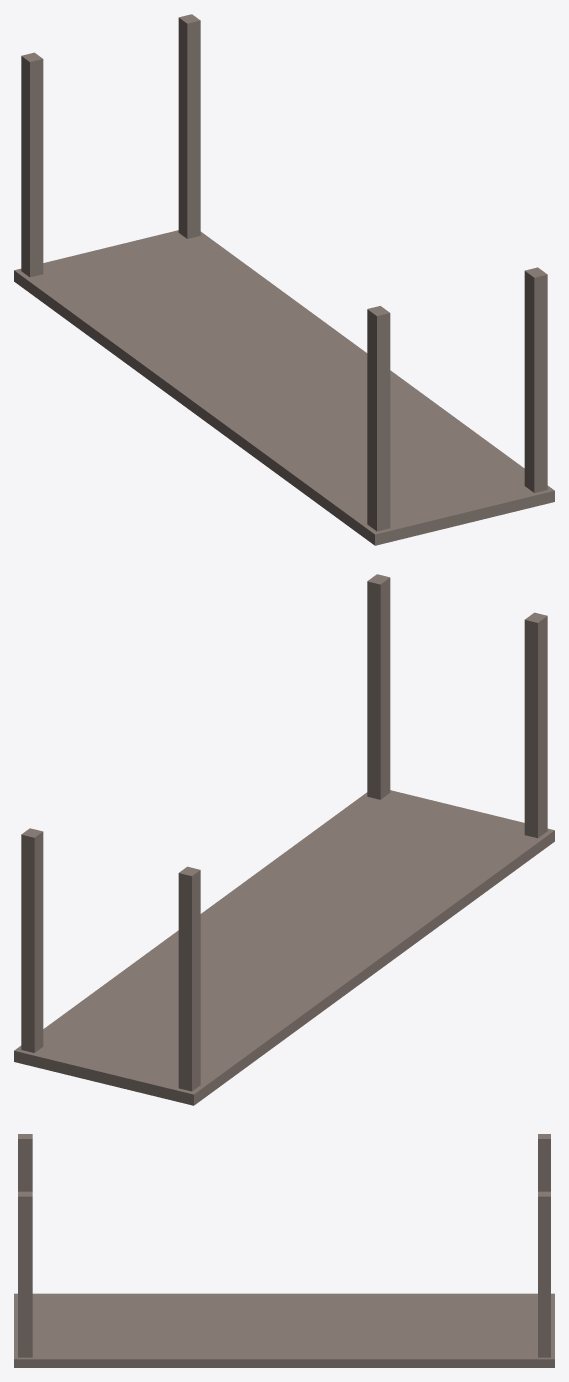
The model's file is Table.fbx.
3 renders of one model, top to bottom at view 1: azimuth 30°, elevation 25°; view 2: azimuth 150°, elevation 25°; view 3: azimuth 270°, elevation 25°, orthographic. The views are drawn at different scales.
Visible parts, largest first — view 1: Cube; view 2: Cube; view 3: Cube.
Boxes of the visible parts, box(x1,y1,x2,y2) form: Cube: box(14, 14, 554, 545); Cube: box(14, 574, 554, 1105); Cube: box(14, 1134, 554, 1367).
Size of the model in its own units: 3.81 by 4.58 by 13.23.
